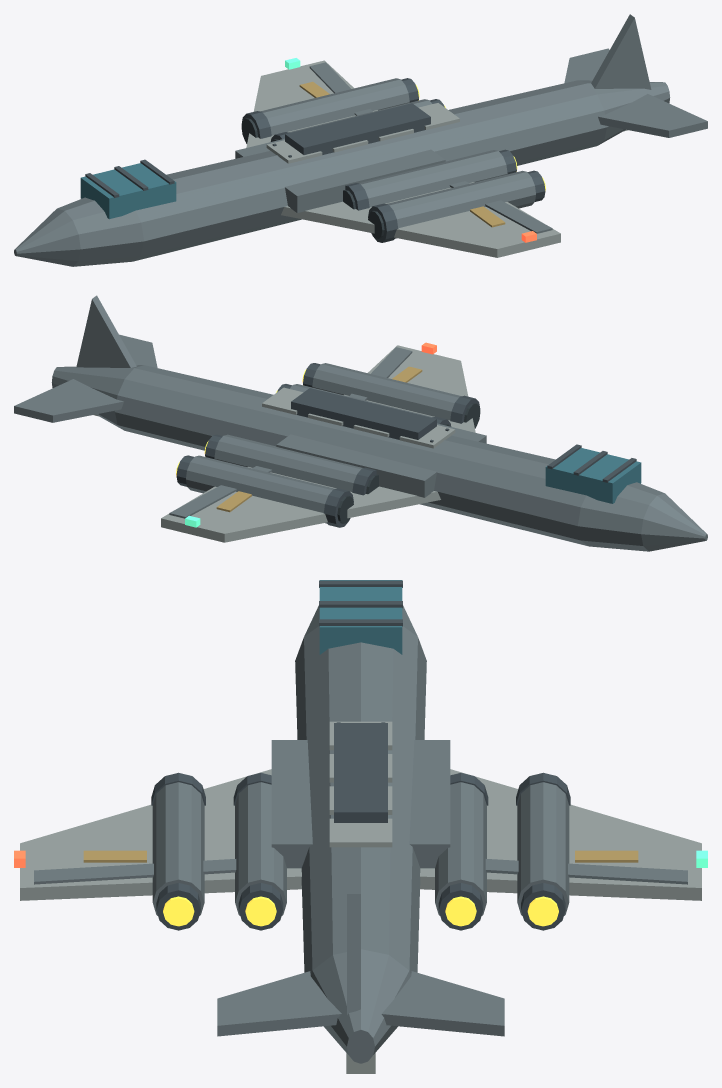
File: atlas_tanker.glb
3 renders of one model, top to bottom at view 1: azimuth 30°, elevation 25°; view 2: azimuth 150°, elevation 25°; view 3: azimuth 270°, elevation 25°, orthographic. The views are drawn at different scales.
Visible parts, largest first — view 1: Pressure hull, Port wing, Engine nacelle, Engine nacelle.003, Engine nacelle.001, Fuel manifold, Wing root fairing, Canopy, Tailplane, Vertical stabilizer, Starboard wing, Tailplane.001 (+7 smaller); view 2: Pressure hull, Starboard wing, Engine nacelle.003, Engine nacelle, Engine nacelle.002, Fuel manifold, Wing root fairing.001, Canopy, Tailplane.001, Port wing, Vertical stabilizer, Elevon.001 (+7 smaller); view 3: Pressure hull, Port wing, Starboard wing, Engine nacelle, Engine nacelle.003, Tailplane, Fuel manifold, Tailplane.001, Wing root fairing, Wing root fairing.001, Engine nacelle.001, Engine nacelle.002 (+11 smaller).
Part boxes in pixels (box(x1,y1,x2,y2)): Pressure hull: box(14, 80, 670, 266); Port wing: box(281, 182, 560, 257); Engine nacelle: box(387, 170, 535, 238); Engine nacelle.003: box(260, 78, 409, 135); Engine nacelle.001: box(359, 150, 507, 207); Fuel manifold: box(285, 103, 430, 154); Wing root fairing: box(285, 149, 445, 212); Canopy: box(80, 163, 176, 219); Tailplane: box(598, 94, 707, 137); Vertical stabilizer: box(591, 14, 651, 89); Starboard wing: box(246, 60, 377, 147); Tailplane.001: box(564, 48, 609, 83); Pressure hull: box(51, 365, 707, 551); Starboard wing: box(161, 467, 440, 542); Engine nacelle.003: box(186, 455, 335, 523); Engine nacelle: box(312, 363, 461, 420); Engine nacelle.002: box(214, 434, 362, 491); Fuel manifold: box(291, 388, 436, 439); Wing root fairing.001: box(276, 434, 436, 497); Canopy: box(545, 448, 641, 503); Tailplane.001: box(14, 379, 123, 422); Port wing: box(344, 345, 475, 432); Vertical stabilizer: box(76, 295, 136, 367); Elevon.001: box(169, 466, 271, 518); Pressure hull: box(295, 605, 426, 1063); Port wing: box(20, 769, 301, 900); Starboard wing: box(420, 769, 701, 900); Engine nacelle: box(152, 782, 204, 915); Engine nacelle.003: box(517, 782, 569, 915); Tailplane: box(217, 971, 341, 1036); Fuel manifold: box(334, 723, 387, 822); Tailplane.001: box(381, 971, 504, 1036); Wing root fairing: box(271, 740, 312, 868); Wing root fairing.001: box(409, 740, 450, 868); Engine nacelle.001: box(235, 782, 286, 915); Engine nacelle.002: box(435, 782, 486, 915).
Size of the model in its own units: 9.2 by 1.62 by 5.9.
